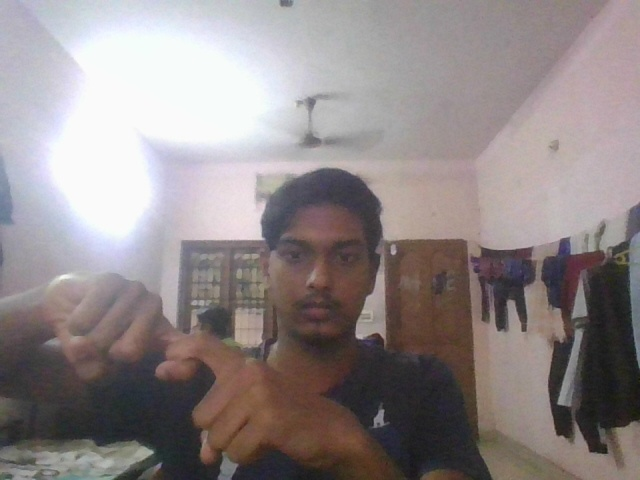friend: (29, 259, 304, 475)
